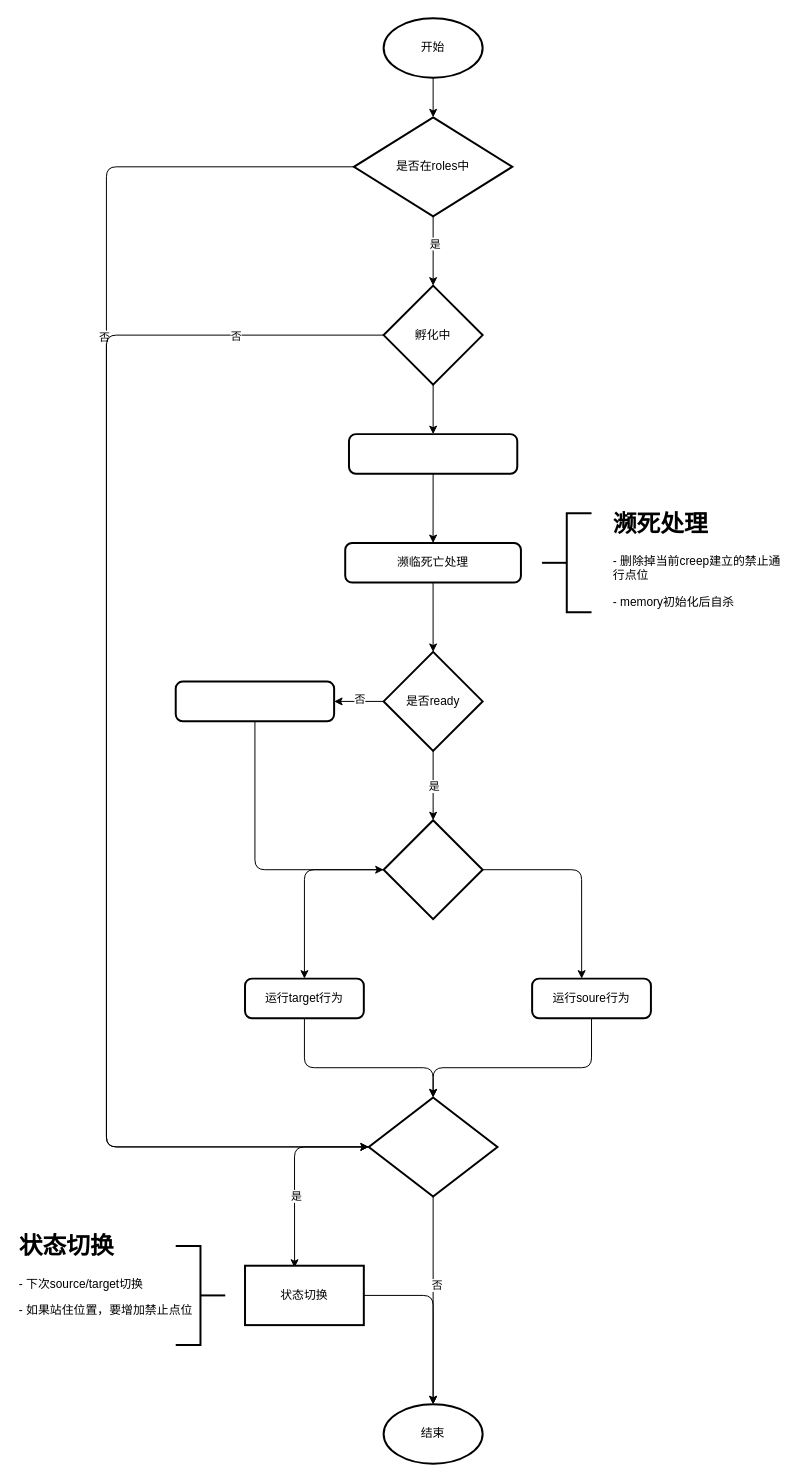
The diagram is 806 pixels wide and 1481 high, and some of its shapes have lost their labels. Here are the shapes that lost their labels. From the top down, the box of each, then its label:
(347, 433, 518, 474): 获取creep行为配置
(174, 680, 335, 722): 进行prepare准备
(382, 819, 483, 920): 是否在working
(367, 1096, 498, 1197): 是否执行完毕
